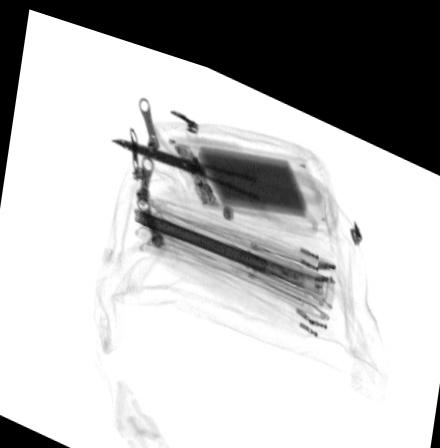Powerbank: (168, 125, 320, 202)
Scissors: (109, 127, 326, 219)
